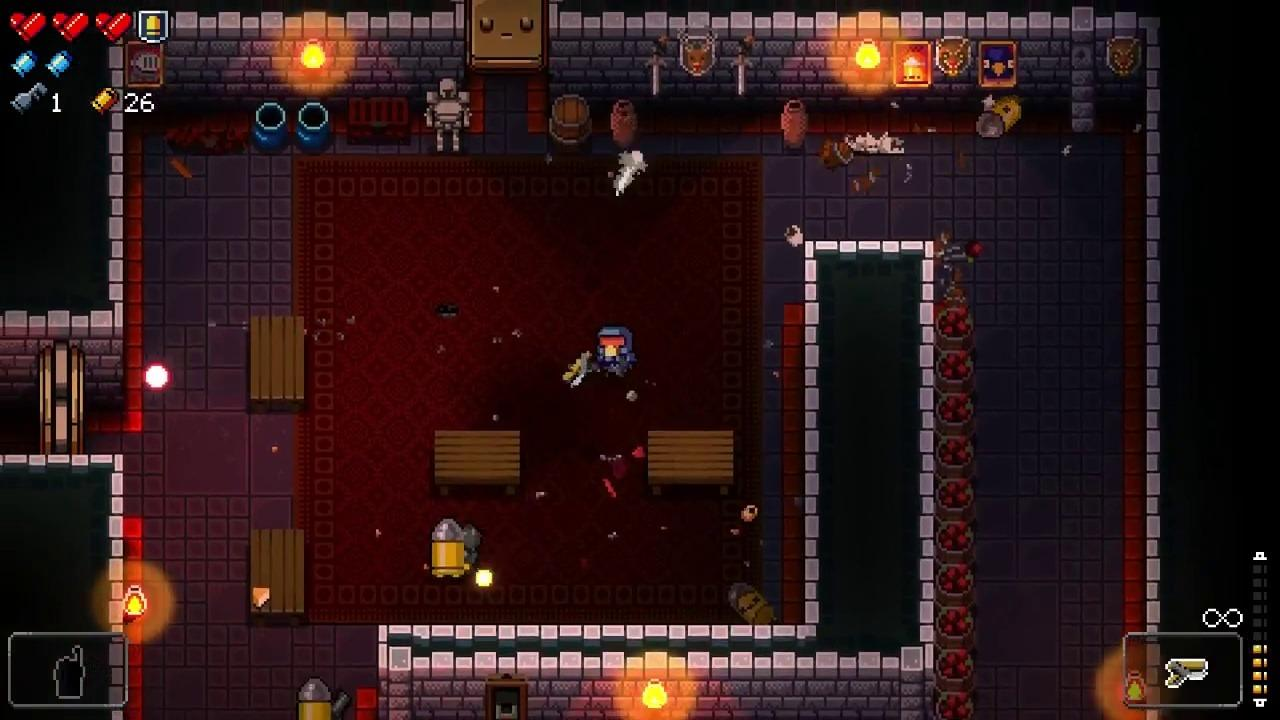bullet: (144, 362, 171, 393)
bullet_kin: (430, 517, 465, 579), (975, 95, 1023, 139), (297, 677, 332, 720)
dead_bullet_kin: (726, 582, 777, 624)
locked_door: (465, 0, 548, 72), (39, 339, 83, 454)
player: (595, 326, 634, 377)
table: (647, 428, 734, 497), (435, 429, 520, 495), (249, 314, 305, 412), (251, 527, 305, 628)
